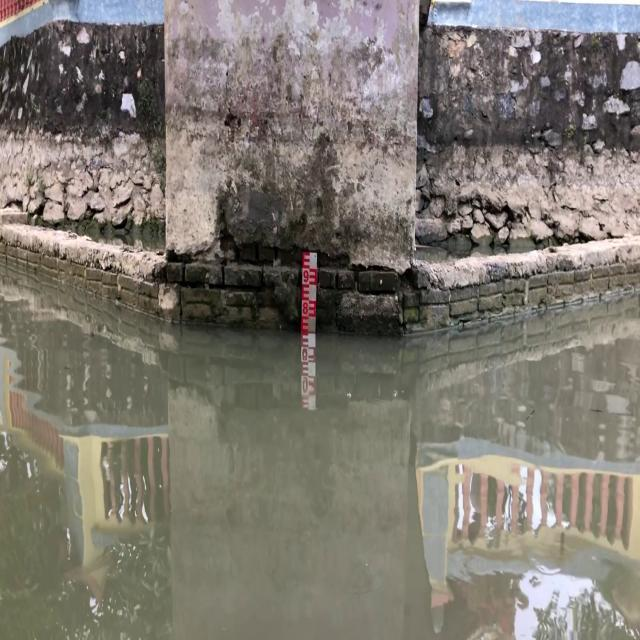ruler: (294, 246, 324, 333)
value: (301, 300, 310, 318), (302, 268, 310, 284)
